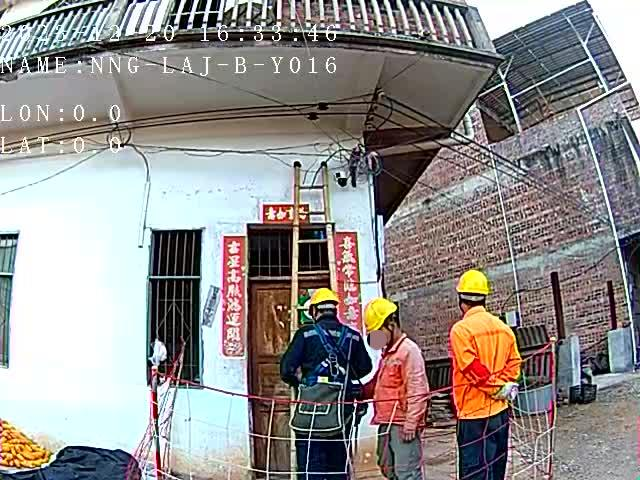halt: (368, 300, 403, 345), (458, 272, 494, 312), (310, 290, 344, 323)
inear: (386, 318, 403, 342)
